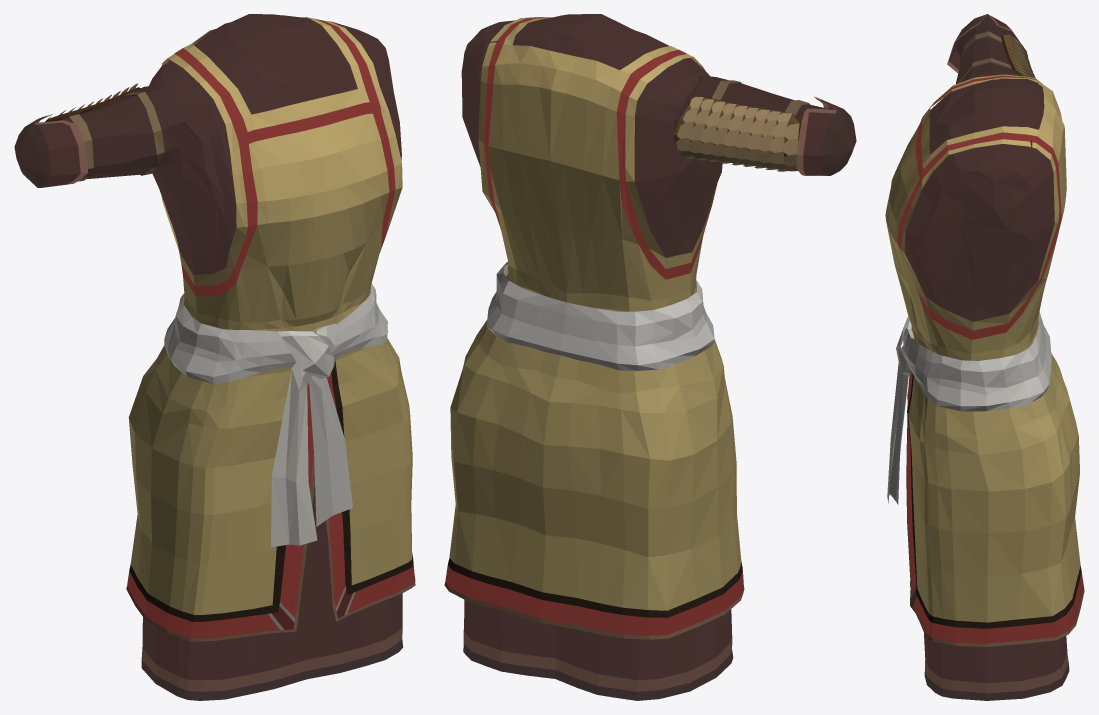
File: saracenWarriorFemale.glb
3 renders of one model, left to right at view 1: azimuth 30°, elevation 25°; view 2: azimuth 150°, elevation 25°; view 3: azimuth 270°, elevation 25°, orthographic. The views are drawn at different scales.
Parts seen in each view (by area): view 1: saracenWarriorBody, saracenWarriorUpperArm; view 2: saracenWarriorBody, saracenWarriorUpperArm; view 3: saracenWarriorBody, saracenWarriorUpperArm.
Boxes of the visible parts, bbox=[...] form: saracenWarriorBody: bbox=[126, 14, 415, 700]; saracenWarriorUpperArm: bbox=[14, 83, 188, 187]; saracenWarriorBody: bbox=[444, 14, 744, 700]; saracenWarriorUpperArm: bbox=[673, 76, 856, 175]; saracenWarriorBody: bbox=[885, 72, 1084, 700]; saracenWarriorUpperArm: bbox=[947, 14, 1038, 83].
Size of the model in its own units: 0.6812 by 1.07 by 0.3423.
